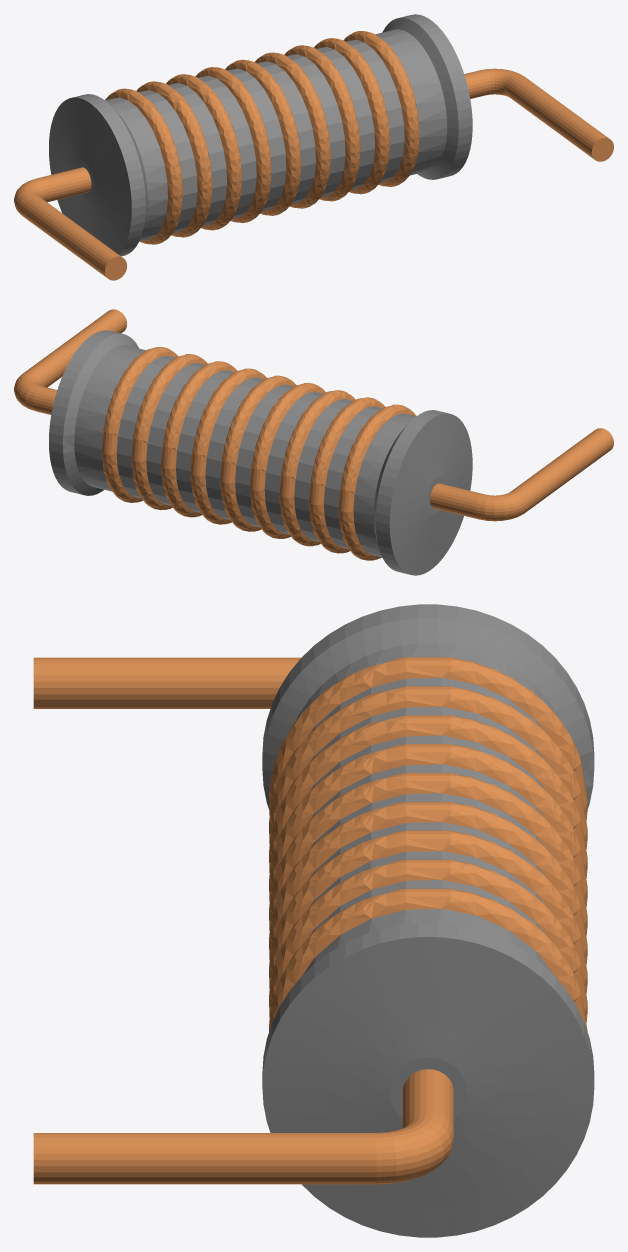
The model's file is L_Axial_L11.0mm_D4.5mm_P15.24mm_Horizontal_Fastron_MECC.glb.
3 renders of one model, top to bottom at view 1: azimuth 30°, elevation 25°; view 2: azimuth 150°, elevation 25°; view 3: azimuth 270°, elevation 25°, orthographic. The views are drawn at different scales.
Parts seen in each view (by area): view 1: Shape_IndexedFaceSet.029, Shape_IndexedFaceSet.005, Shape_IndexedFaceSet.026, Shape_IndexedFaceSet.033, Shape_IndexedFaceSet.008, Shape_IndexedFaceSet.025, Shape_IndexedFaceSet.023, Shape_IndexedFaceSet.007, Shape_IndexedFaceSet.013, Shape_IndexedFaceSet.015, Shape_IndexedFaceSet.019, Shape_IndexedFaceSet.021 (+19 smaller); view 2: Shape_IndexedFaceSet.029, Shape_IndexedFaceSet.005, Shape_IndexedFaceSet.026, Shape_IndexedFaceSet.033, Shape_IndexedFaceSet.025, Shape_IndexedFaceSet.021, Shape_IndexedFaceSet.017, Shape_IndexedFaceSet.015, Shape_IndexedFaceSet.013, Shape_IndexedFaceSet.023, Shape_IndexedFaceSet.011, Shape_IndexedFaceSet.007 (+17 smaller); view 3: Shape_IndexedFaceSet, Shape_IndexedFaceSet.008, Shape_IndexedFaceSet.033, Shape_IndexedFaceSet.027, Shape_IndexedFaceSet.011, Shape_IndexedFaceSet.013, Shape_IndexedFaceSet.025, Shape_IndexedFaceSet.019, Shape_IndexedFaceSet.023, Shape_IndexedFaceSet.021, Shape_IndexedFaceSet.017, Shape_IndexedFaceSet.015 (+16 smaller).
Part boxes in pixels (x1,y1,x2,y2): Shape_IndexedFaceSet.029: (49,97,131,254); Shape_IndexedFaceSet.005: (375,29,447,175); Shape_IndexedFaceSet.026: (105,97,167,241); Shape_IndexedFaceSet.033: (19,194,121,277); Shape_IndexedFaceSet.008: (506,75,609,158); Shape_IndexedFaceSet.025: (105,88,182,244); Shape_IndexedFaceSet.023: (136,81,212,237); Shape_IndexedFaceSet.007: (343,31,419,186); Shape_IndexedFaceSet.013: (284,45,360,201); Shape_IndexedFaceSet.015: (255,52,330,208); Shape_IndexedFaceSet.019: (195,67,271,222); Shape_IndexedFaceSet.021: (166,74,242,230); Shape_IndexedFaceSet.029: (389,413,472,575); Shape_IndexedFaceSet.005: (74,345,145,491); Shape_IndexedFaceSet.026: (353,413,416,557); Shape_IndexedFaceSet.033: (511,428,613,511); Shape_IndexedFaceSet.025: (338,404,416,560); Shape_IndexedFaceSet.021: (279,390,355,546); Shape_IndexedFaceSet.017: (220,375,296,531); Shape_IndexedFaceSet.015: (190,368,266,524); Shape_IndexedFaceSet.013: (161,361,237,517); Shape_IndexedFaceSet.023: (309,397,384,553); Shape_IndexedFaceSet.011: (131,354,207,510); Shape_IndexedFaceSet.007: (101,347,177,502); Shape_IndexedFaceSet: (262,937,594,1237); Shape_IndexedFaceSet.008: (33,1133,376,1184); Shape_IndexedFaceSet.033: (33,657,300,708); Shape_IndexedFaceSet.027: (262,618,594,809); Shape_IndexedFaceSet.011: (269,859,587,1022); Shape_IndexedFaceSet.013: (269,830,587,993); Shape_IndexedFaceSet.025: (269,657,587,820); Shape_IndexedFaceSet.019: (269,744,587,906); Shape_IndexedFaceSet.023: (269,686,587,849); Shape_IndexedFaceSet.021: (269,715,587,878); Shape_IndexedFaceSet.017: (269,773,587,935); Shape_IndexedFaceSet.015: (269,802,587,964).
Bounding box in the file's own units: 6.27 × 1.77 × 2.99.
